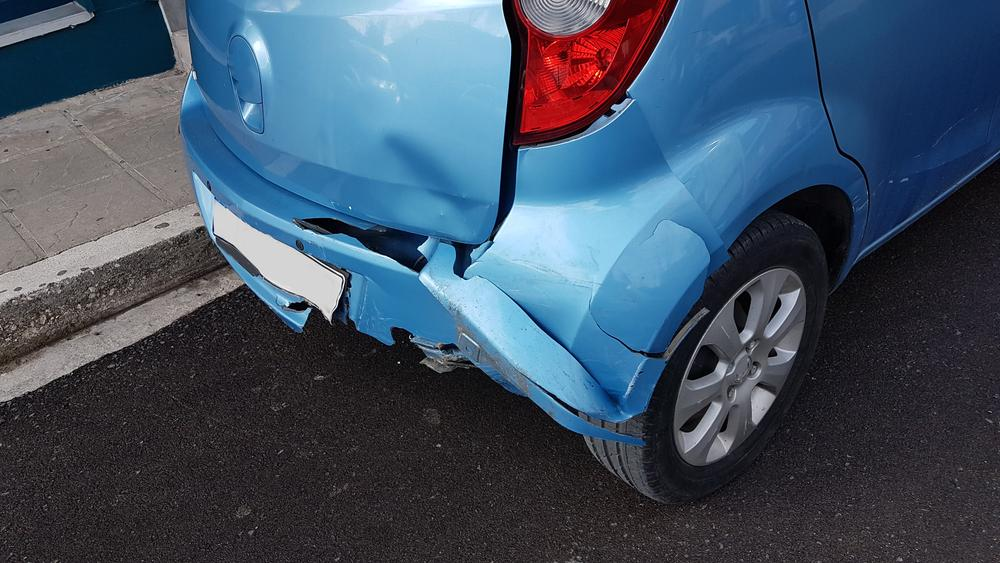crack: (514, 367, 644, 439), (291, 217, 429, 275), (587, 277, 665, 360), (636, 219, 711, 277), (441, 237, 488, 283), (275, 292, 309, 311)
dent: (338, 134, 485, 237)
